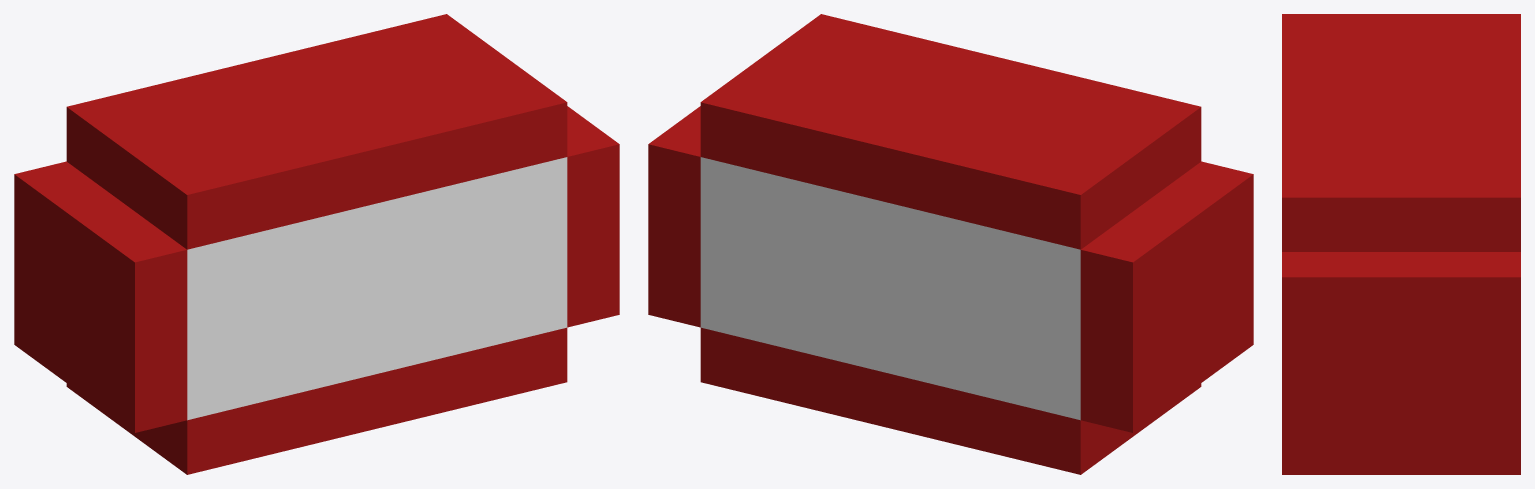
File: Case_Study_SmartSwitch_1.glb
3 views of the same model, side by side, from view 1: azimuth 30°, elevation 25°; view 2: azimuth 150°, elevation 25°; view 3: azimuth 270°, elevation 25° (orthographic).
Visible parts, largest first — view 1: Part 2, Part; view 2: Part 2, Part; view 3: Part 2.
Boxes of the visible parts, box(x1,y1,x2,y2) form: Part 2: box(14, 14, 619, 474); Part: box(187, 157, 567, 420); Part 2: box(648, 14, 1253, 474); Part: box(700, 157, 1080, 420); Part 2: box(1282, 14, 1520, 474).
Size of the model in its own units: 0.0737 by 0.0406 by 0.0318.
